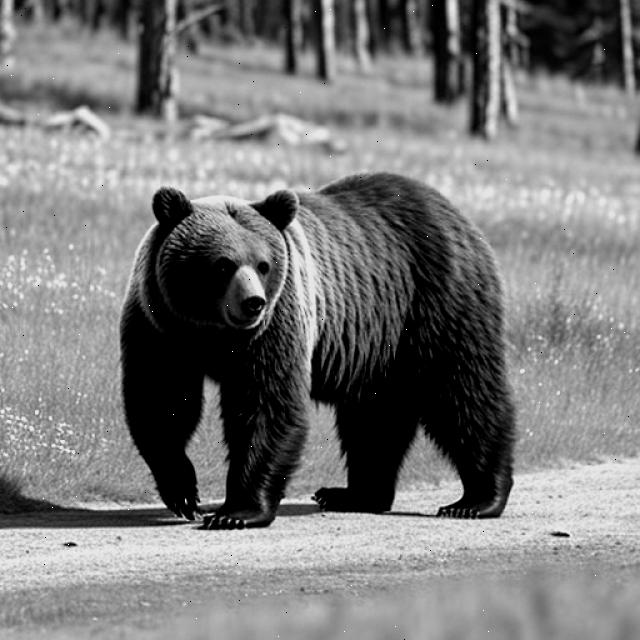bear: (124, 179, 336, 345)
